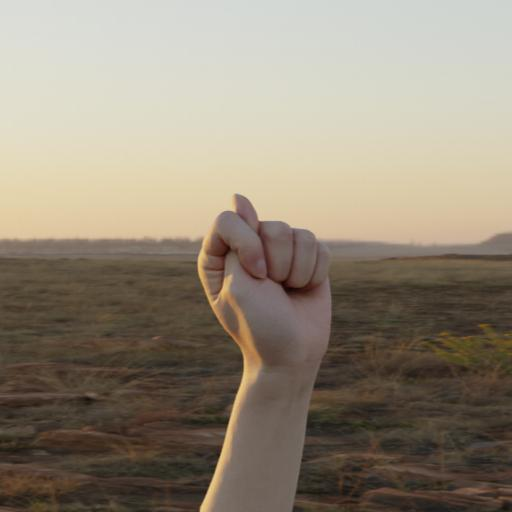T: (180, 172, 366, 430)
